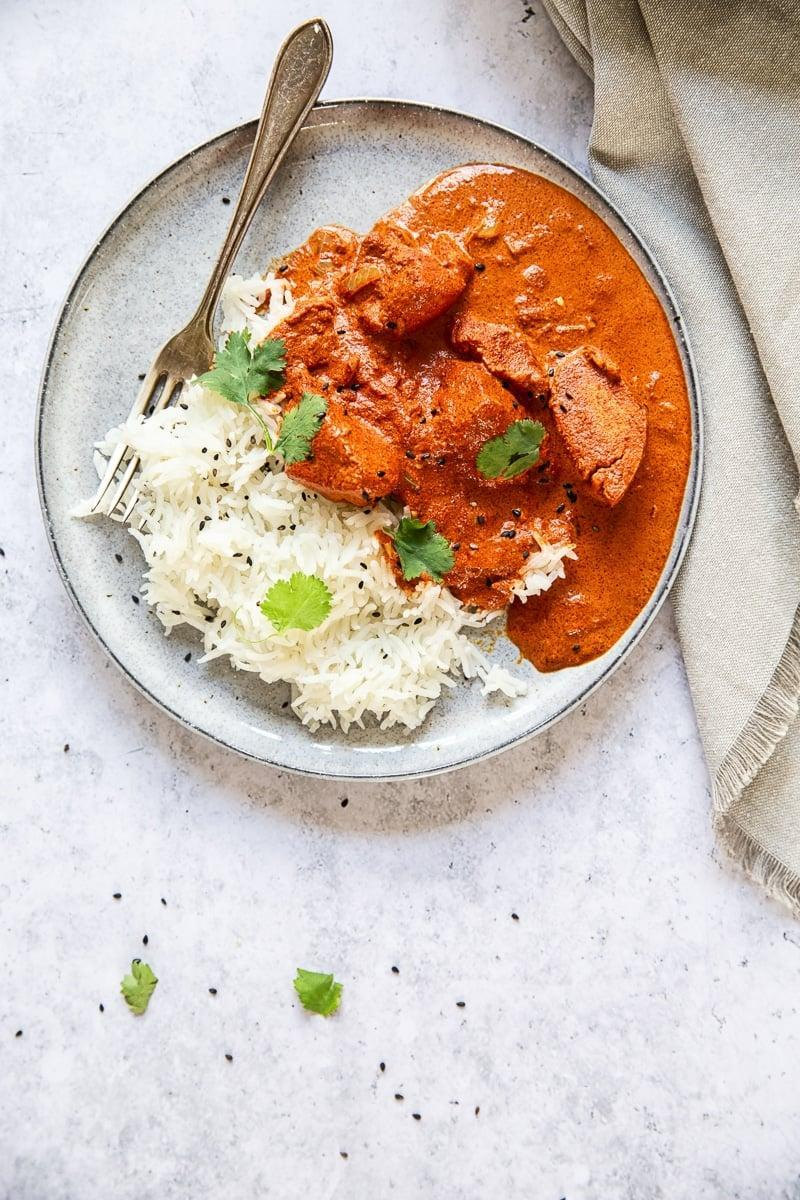chicken: (293, 178, 660, 626)
rice: (93, 365, 293, 689), (323, 525, 453, 753)
